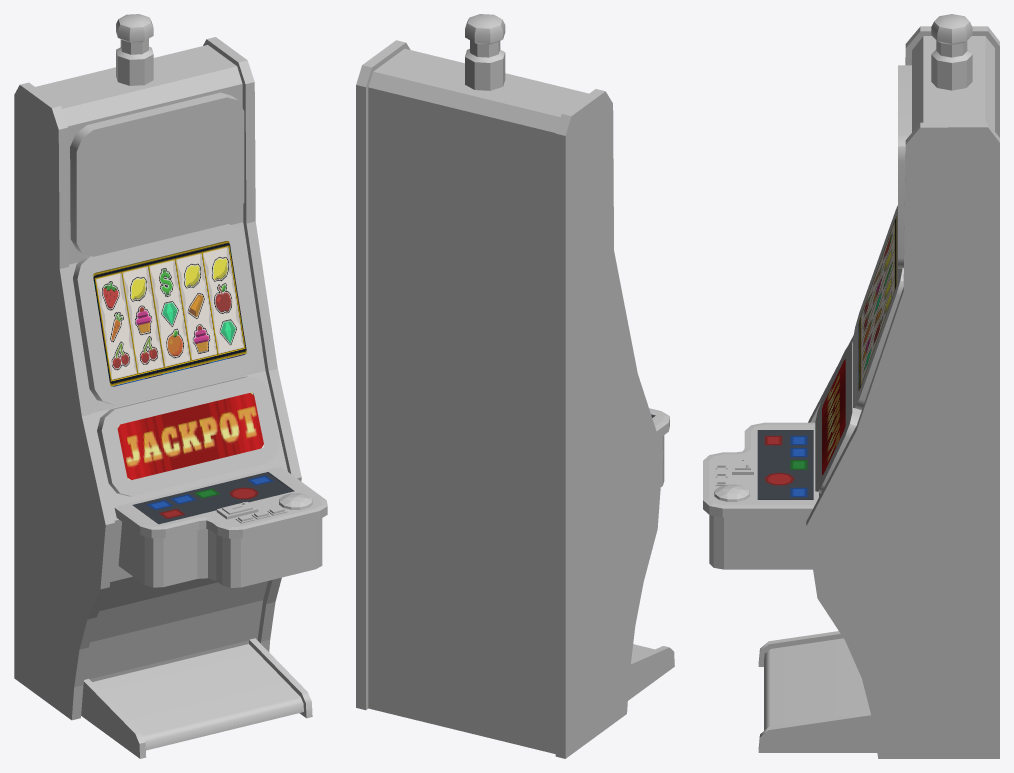
File: SM_Prop_Slot_Machine_01.fbx
3 views of the same model, side by side, from view 1: azimuth 30°, elevation 25°; view 2: azimuth 150°, elevation 25°; view 3: azimuth 270°, elevation 25° (orthographic). The views are drawn at different scales.
Visible parts, largest first — view 1: SM_Prop_Slot_Machine_01; view 2: SM_Prop_Slot_Machine_01; view 3: SM_Prop_Slot_Machine_01.
Part boxes in pixels (x1,y1,x2,y2): SM_Prop_Slot_Machine_01: (14, 14, 327, 758); SM_Prop_Slot_Machine_01: (356, 14, 674, 758); SM_Prop_Slot_Machine_01: (703, 14, 999, 758).
Bounding box in the file's own units: 89.87 × 286 × 111.
